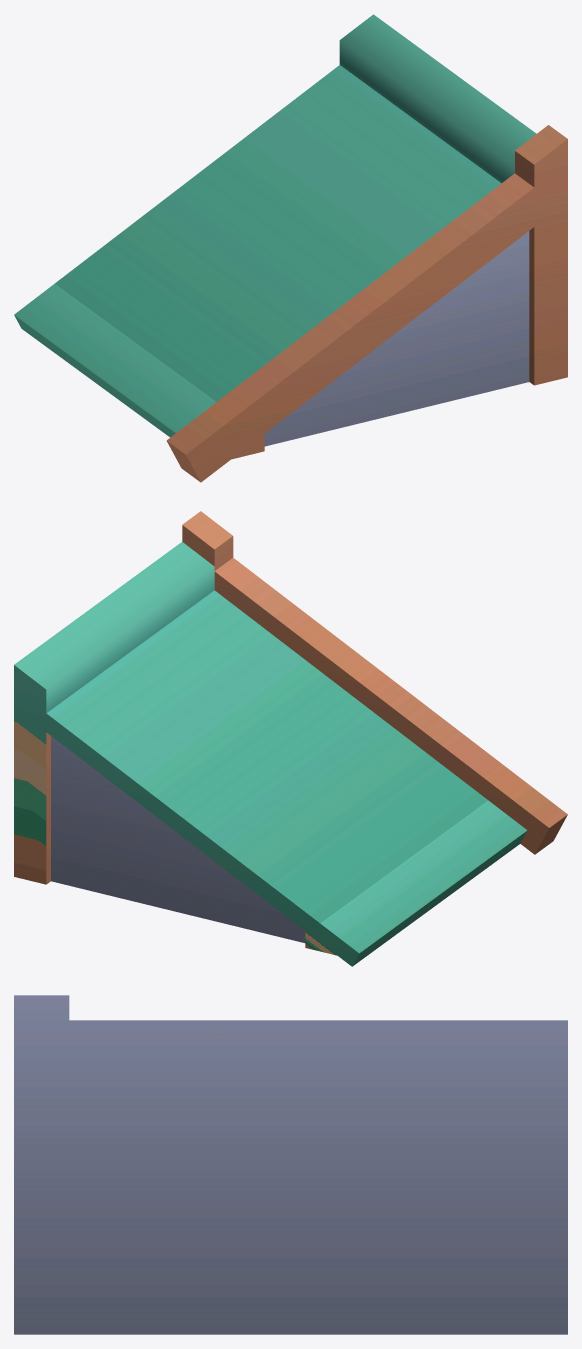
File: roof-right.glb
3 views of the same model, one above another, from view 1: azimuth 30°, elevation 25°; view 2: azimuth 150°, elevation 25°; view 3: azimuth 270°, elevation 25° (orthographic). The views are drawn at different scales.
Parts seen in each view (by area): view 1: roof-right; view 2: roof-right; view 3: roof-right.
Boxes of the visible parts, x1,y1,x2,y2 form: roof-right: (14,14,567,482); roof-right: (14,511,567,966); roof-right: (14,995,567,1334).
Bounding box in the file's own units: 1.13 × 0.7206 × 1.
1 material, 1 textured.
